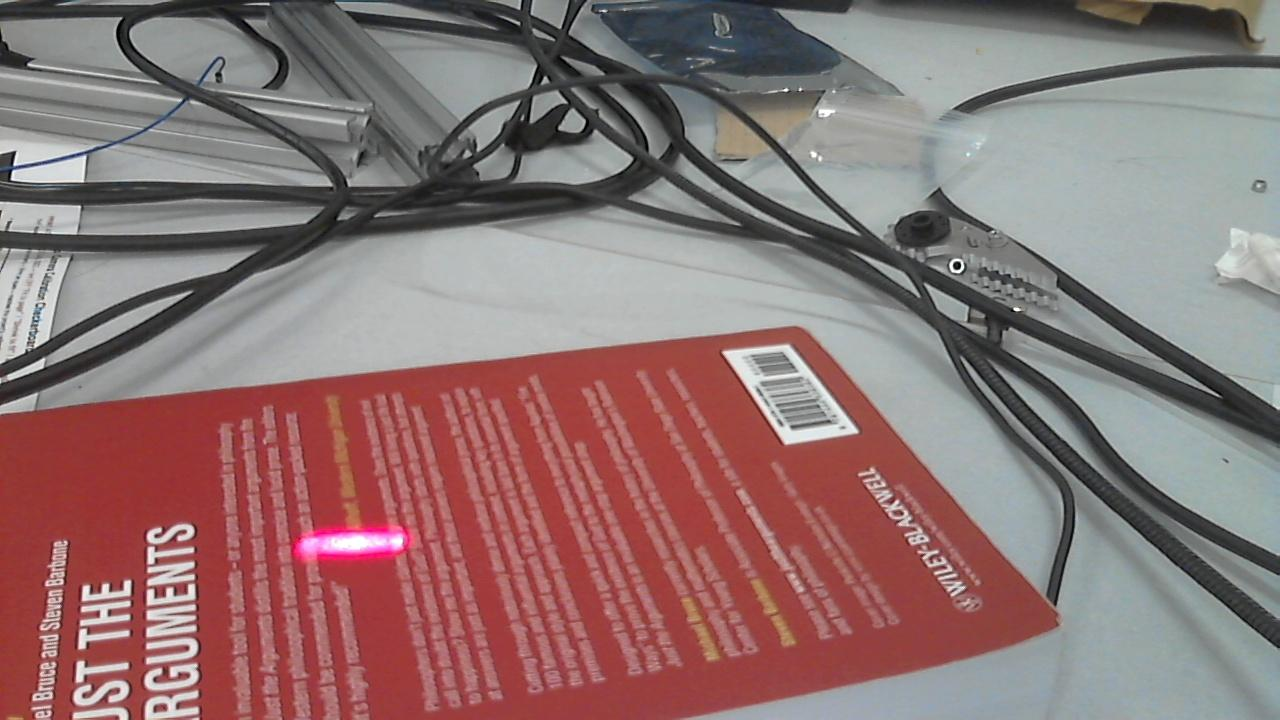Object book - Material paper - Color red - Pdfname QP9o9Hihi4G7: (267, 511, 424, 568)
